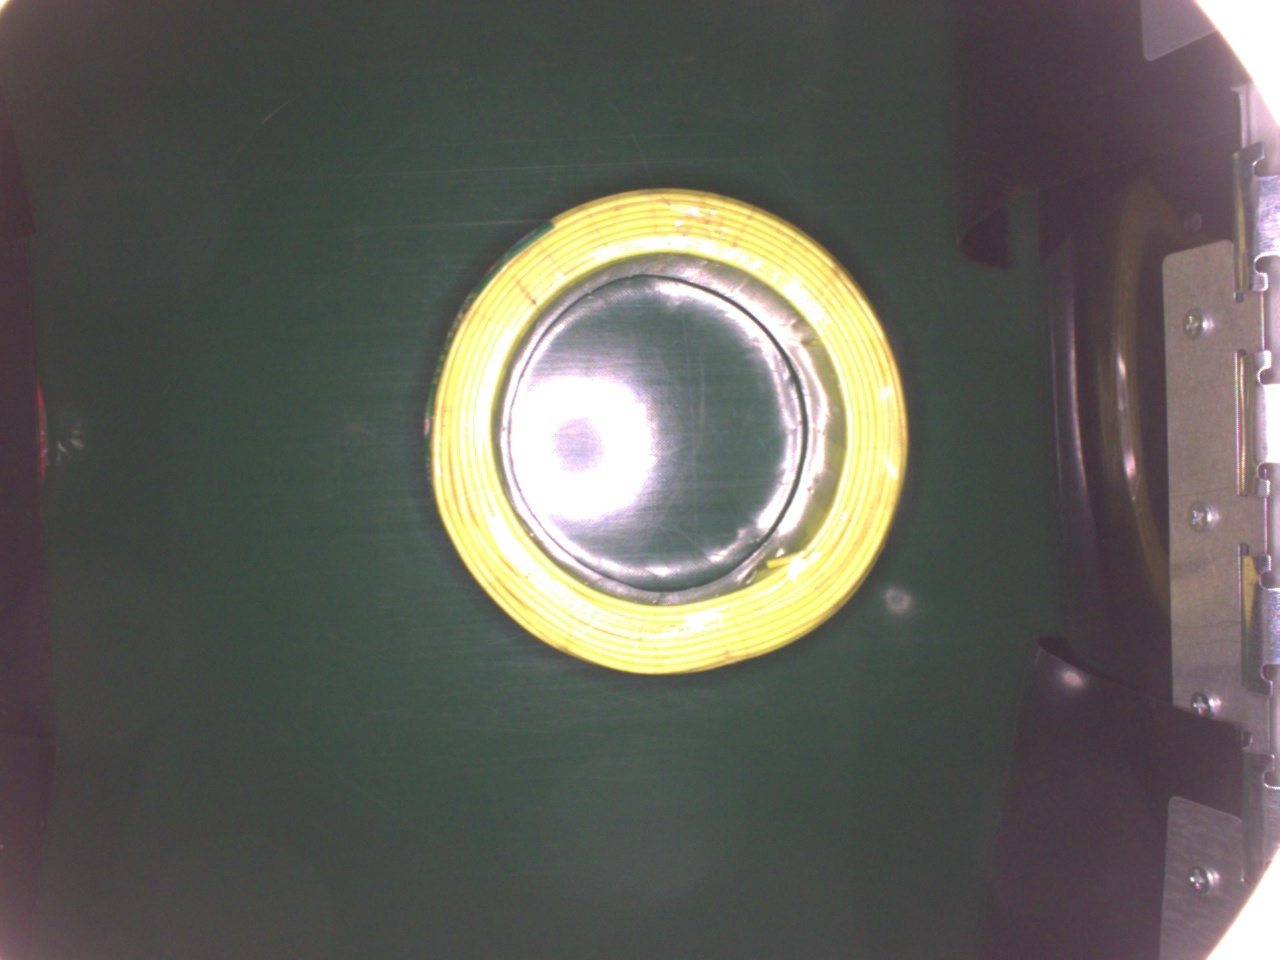yellow: (420, 192, 908, 675)
